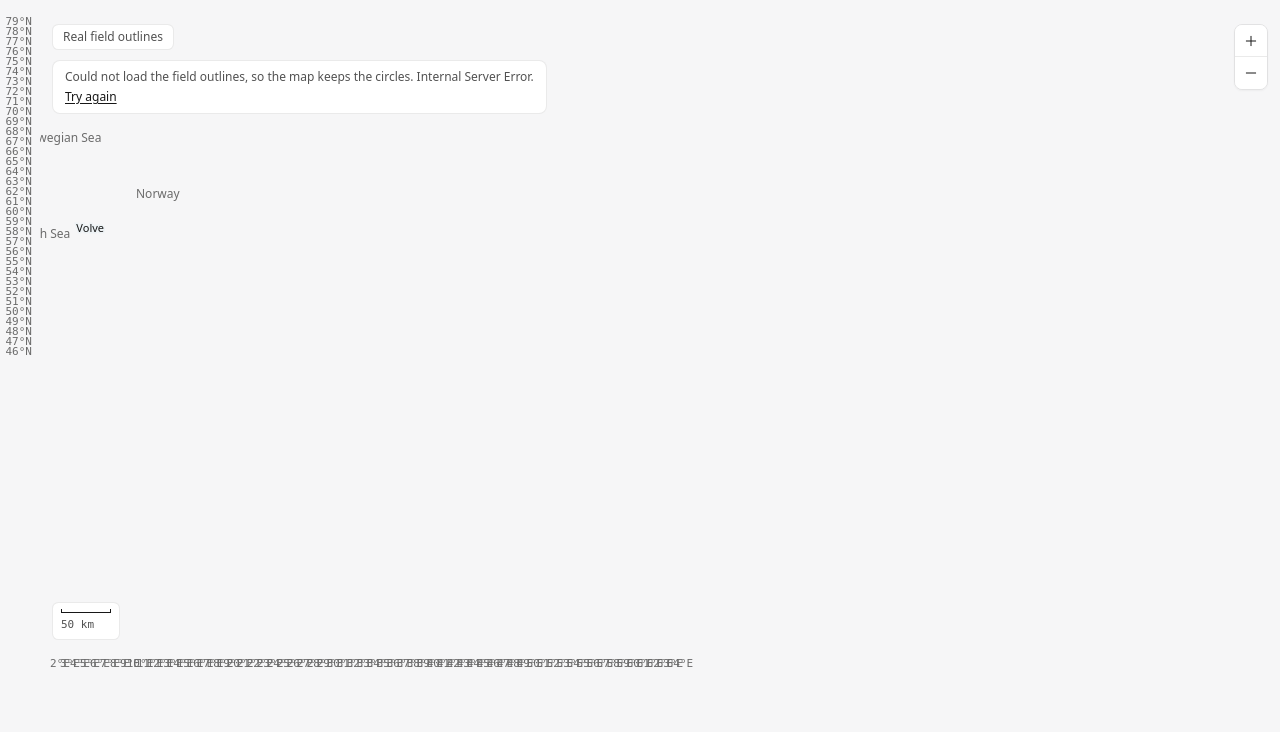
Test: ShelfMap field outlines › keeps the circles and says so when the outlines cannot load, with a way to try again
The image size is (1280, 732).
Expected: the message shows "Could not load the field outlines, so the map keeps the circles.", [65,68,417,85]
Click the button "Try again": (91, 97) [65,89,117,105]
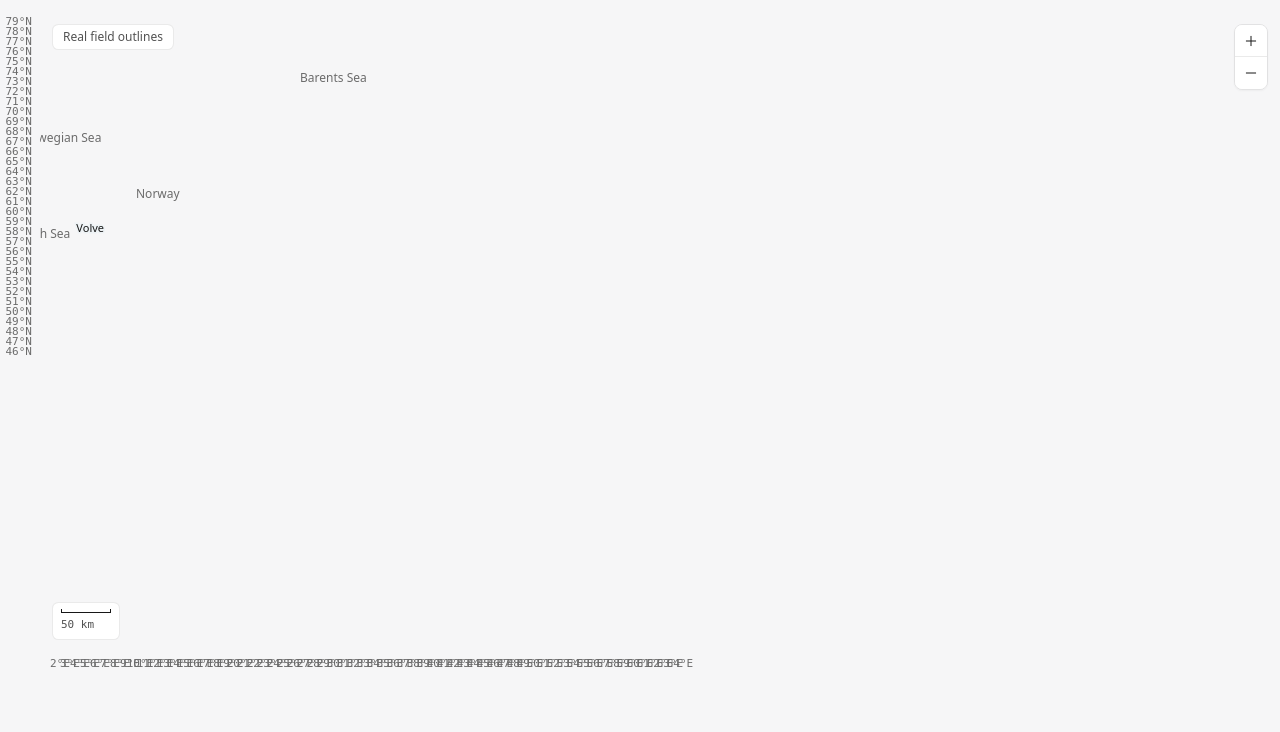
Now the message is gone
